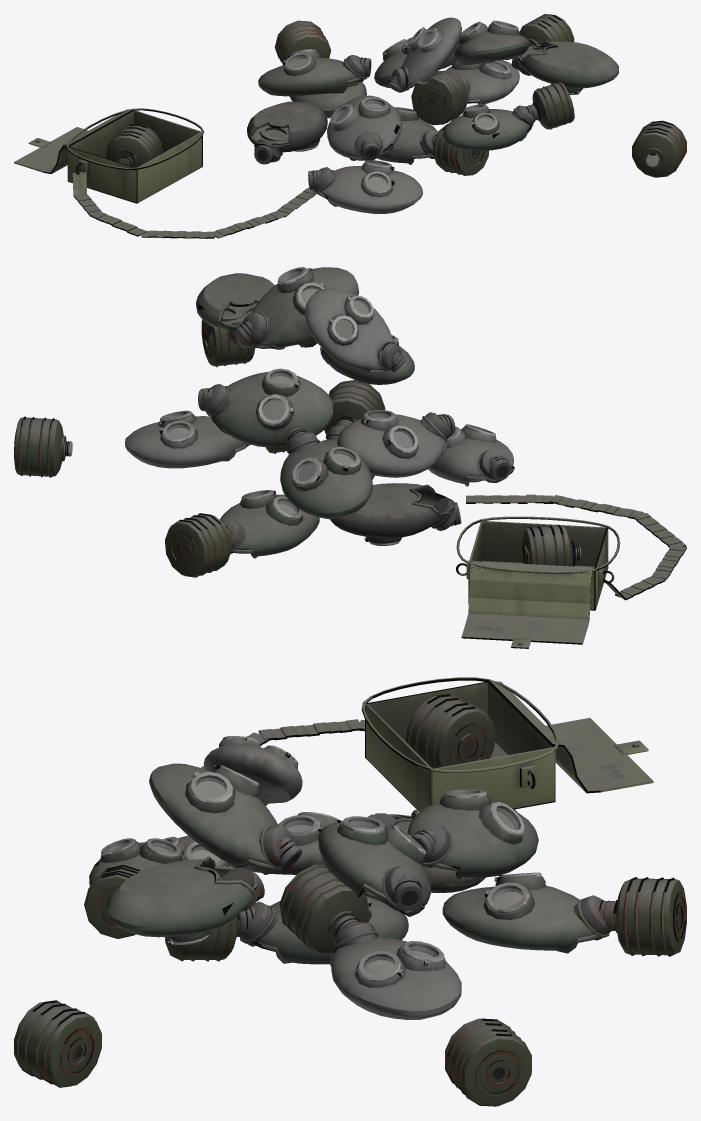
The model's file is SM_GasMask_Pile.fbx.
3 views of the same model, one above another, from view 1: azimuth 30°, elevation 25°; view 2: azimuth 150°, elevation 25°; view 3: azimuth 270°, elevation 25° (orthographic). The views are drawn at different scales.
Parts seen in each view (by area): view 1: SM_GasMask_Pile; view 2: SM_GasMask_Pile; view 3: SM_GasMask_Pile.
Boxes of the visible parts, <box> form: SM_GasMask_Pile: <box>14,14,686,238</box>; SM_GasMask_Pile: <box>14,267,686,648</box>; SM_GasMask_Pile: <box>14,677,686,1106</box>.
Bounding box in the file's own units: 1.31 × 0.3457 × 0.9432.
2 materials, 1 textured.
